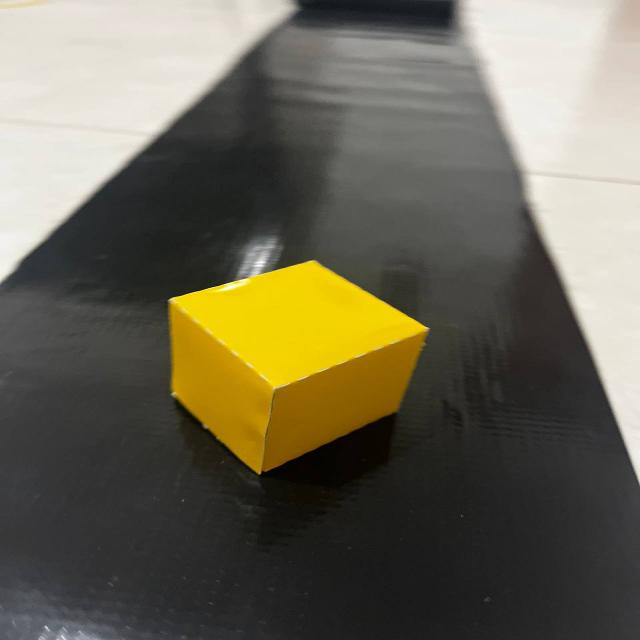Amarillo: (155, 246, 442, 500)
